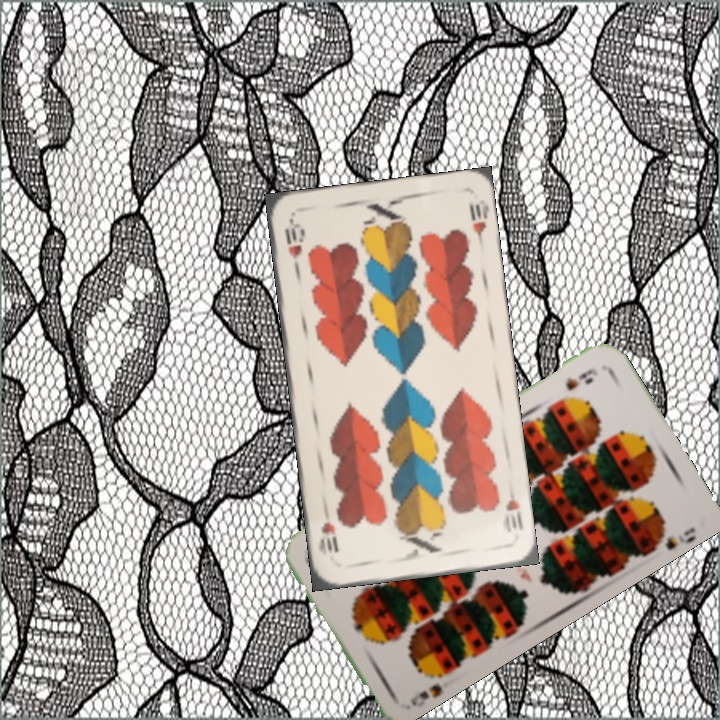H10: (499, 481, 526, 535), (281, 215, 304, 275)
S9: (406, 664, 451, 709), (561, 364, 601, 394)
